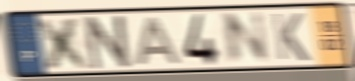4: (182, 12, 221, 68)
A: (134, 15, 183, 68)
K: (269, 11, 311, 63)
N: (83, 13, 136, 72), (221, 9, 271, 67)
X: (33, 15, 96, 71)
